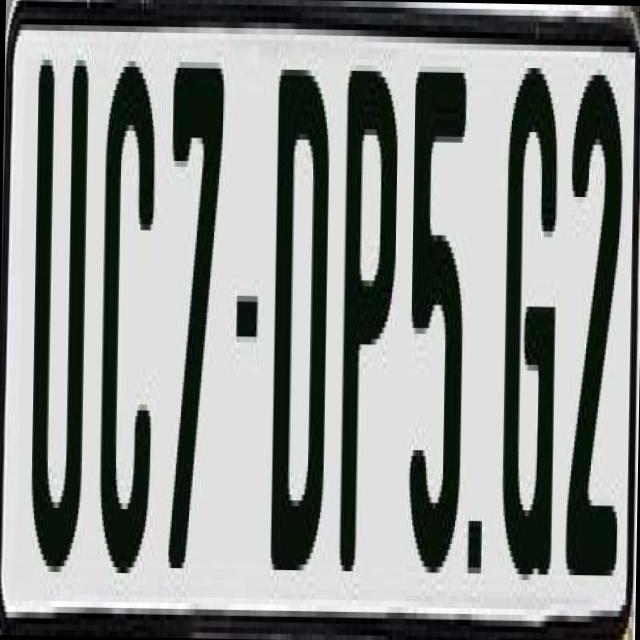2: (564, 68, 619, 604)
5: (405, 65, 465, 572)
7: (165, 56, 225, 568)
C: (96, 42, 164, 574)
D: (266, 63, 332, 576)
G: (500, 49, 568, 592)
P: (337, 52, 404, 584)
U: (26, 59, 86, 596)
